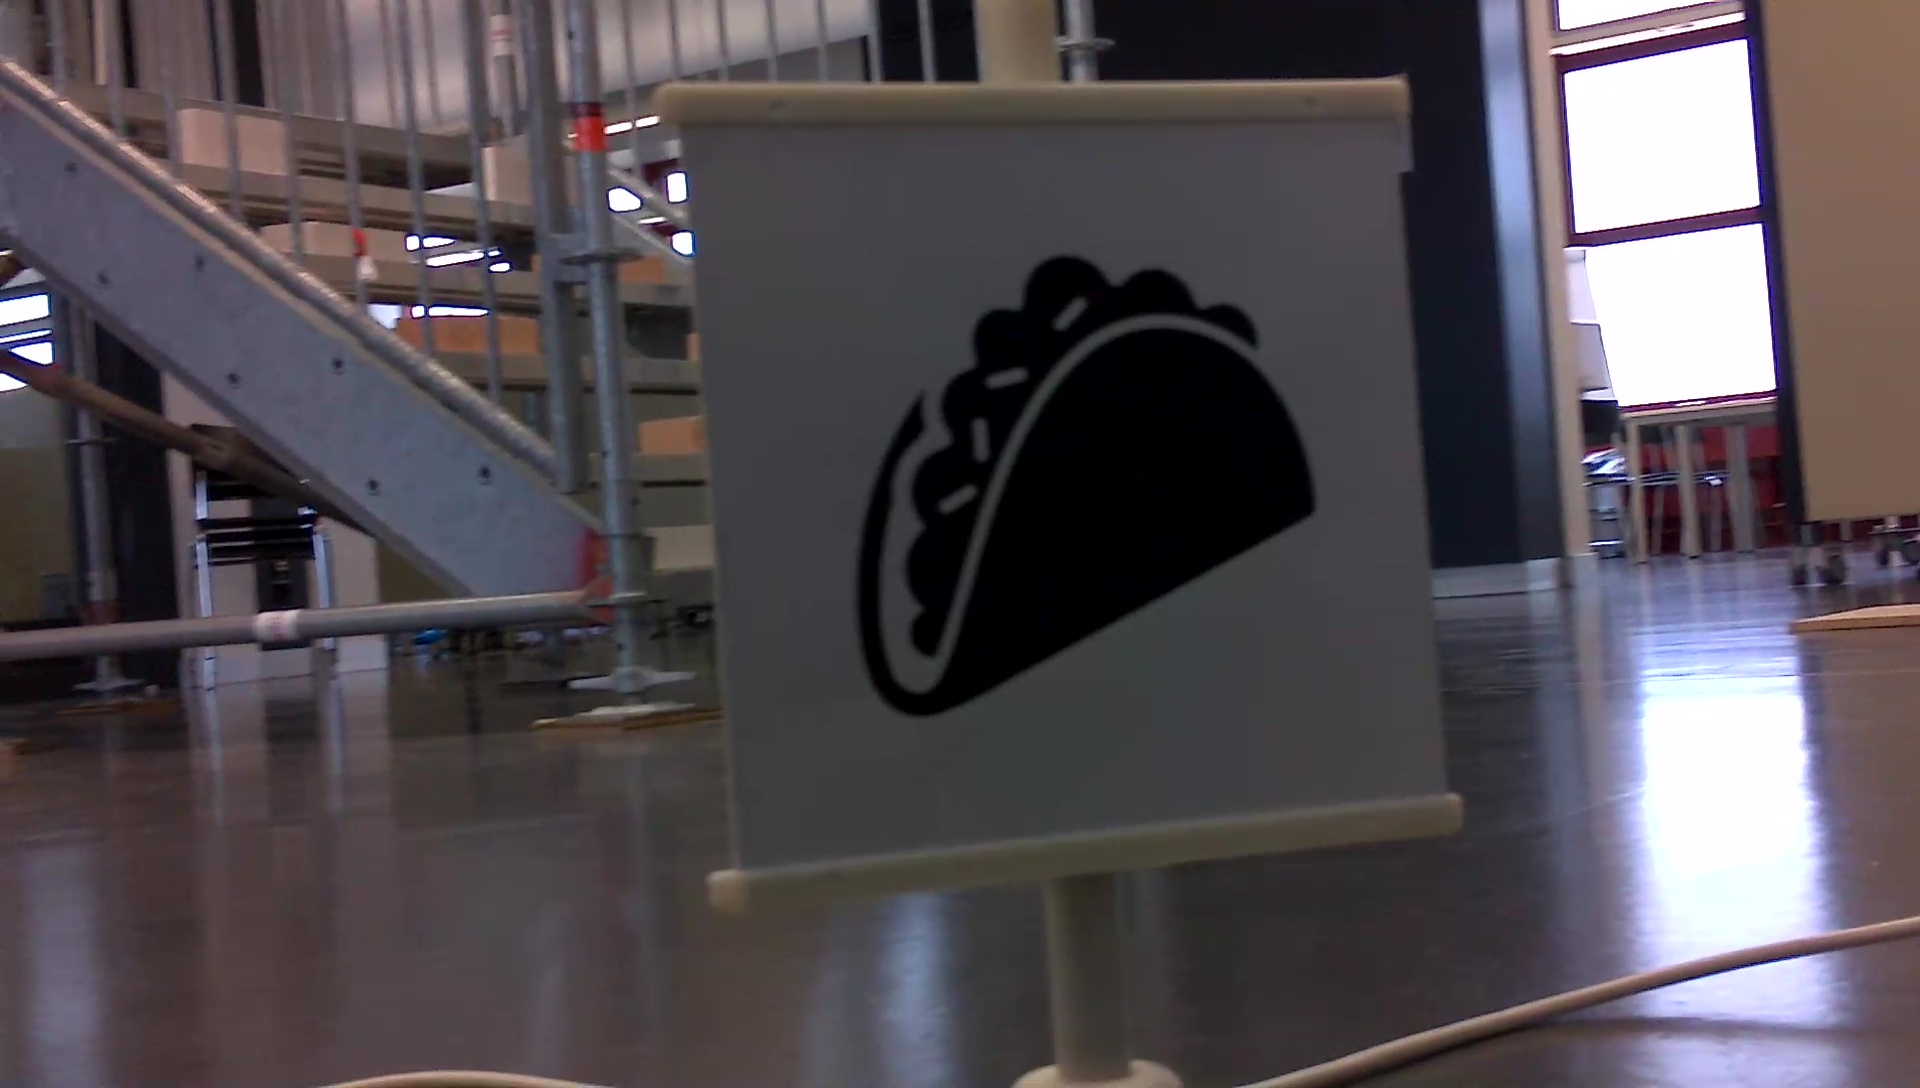taco: (832, 237, 1340, 728)
